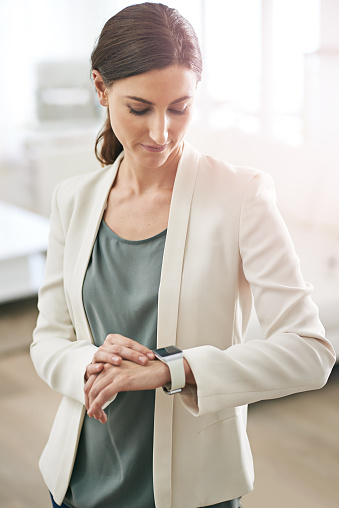em pe: (0, 51, 339, 492)
